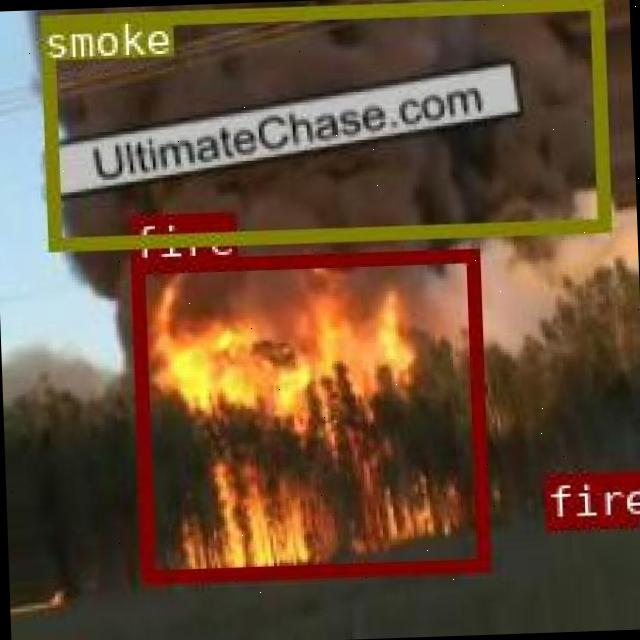fire: (129, 247, 488, 580), (542, 470, 634, 526)
smoke: (39, 0, 607, 249)
